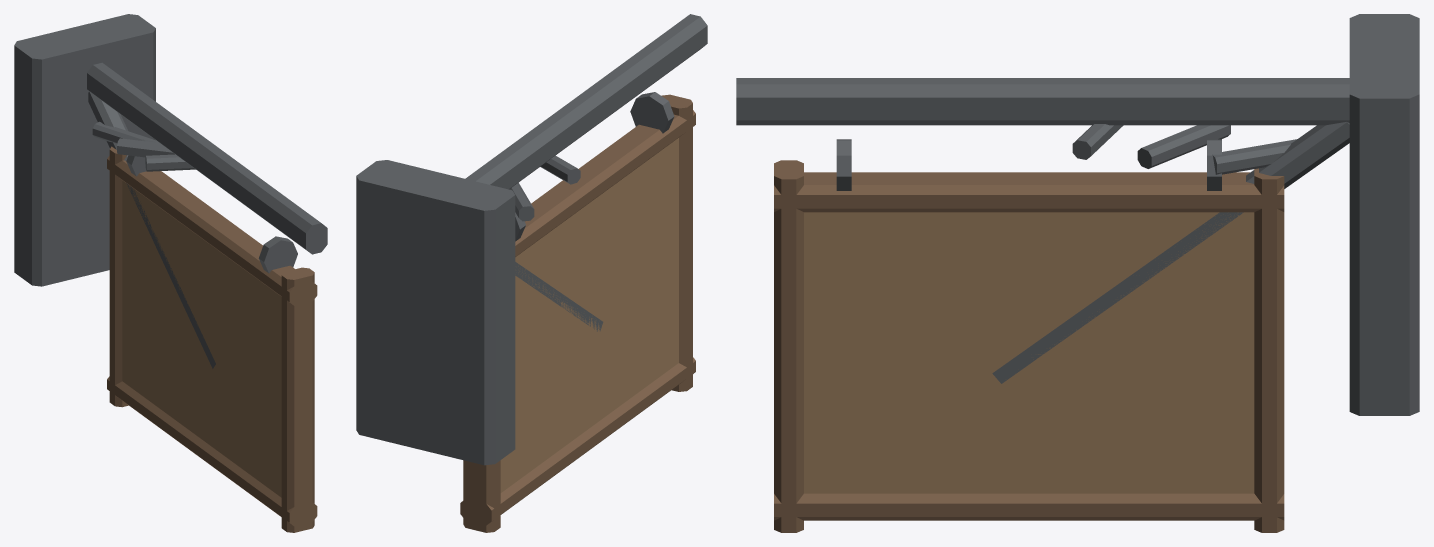
File: hanging_sign.glb
The picture shows the model from 3 angles, left to right: view 1: azimuth 30°, elevation 25°; view 2: azimuth 150°, elevation 25°; view 3: azimuth 270°, elevation 25°; orthographic projection. The views are drawn at different scales.
Visible parts, largest first — view 1: hanging_sign; view 2: hanging_sign; view 3: hanging_sign.
Part boxes in pixels (x1,y1,x2,y2): hanging_sign: (14, 14, 327, 532); hanging_sign: (356, 14, 707, 532); hanging_sign: (736, 14, 1419, 532).
Bounding box in the file's own units: 0.4 × 1.03 × 1.37.
